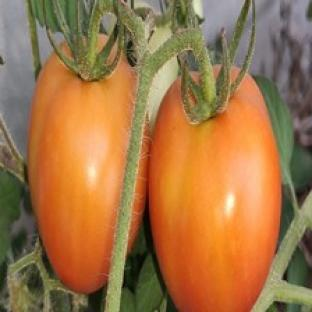Tomato: (150, 76, 281, 311), (28, 53, 136, 292)
